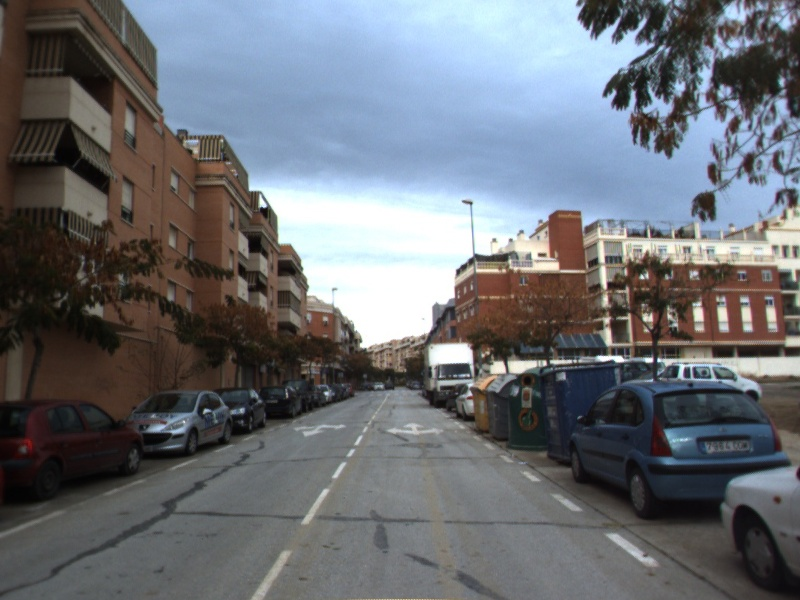STRAIGHT_LEFT_RIGHT: (385, 420, 447, 438)
